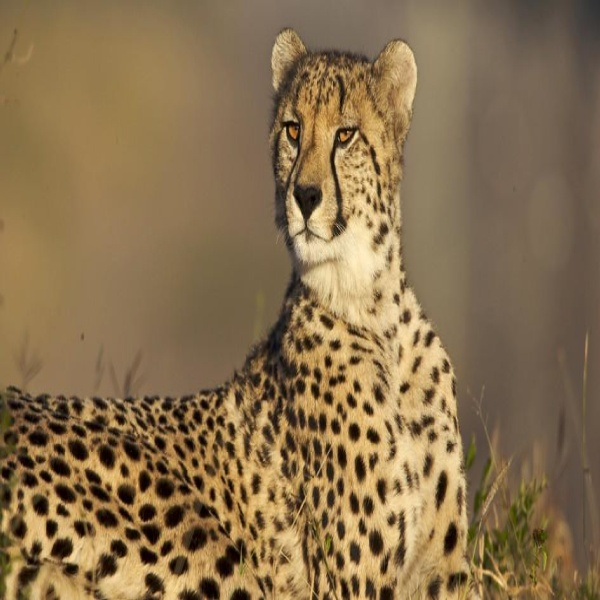Cheetah: (6, 24, 471, 600)
